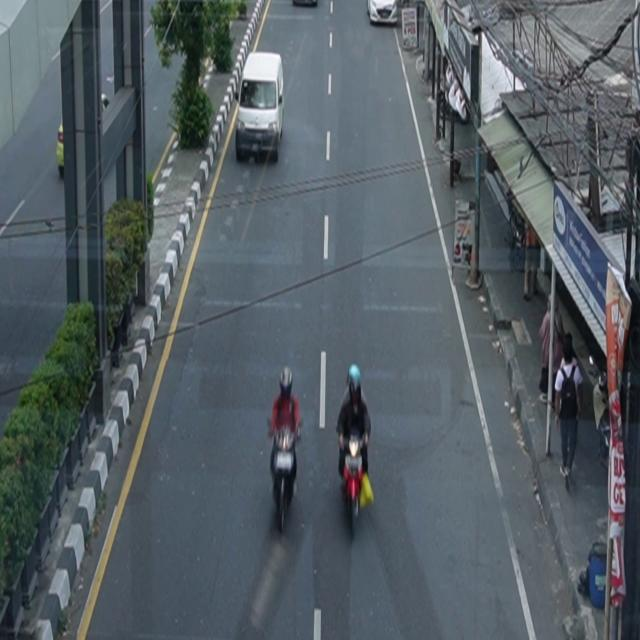car: (236, 52, 285, 163), (367, 1, 398, 26)
